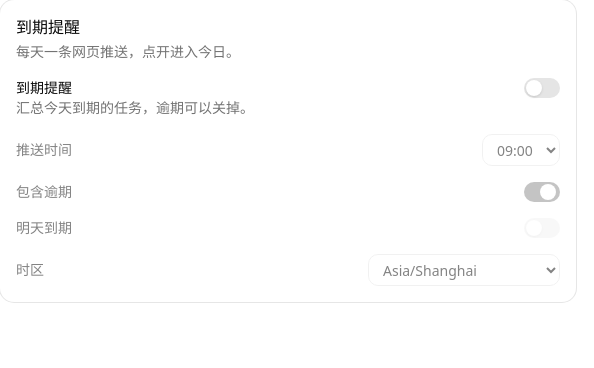
Test: due reminder settings › does not request permission until the master switch is turned on
Click the switch named "到期提醒" at (542, 88), box [524,78,560,98]
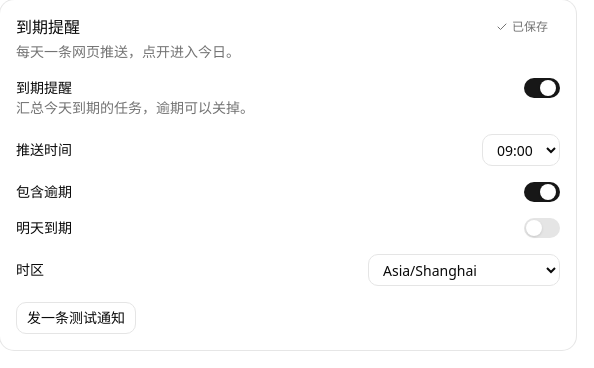
Now the message reads "已保存", box [512,18,548,35]
